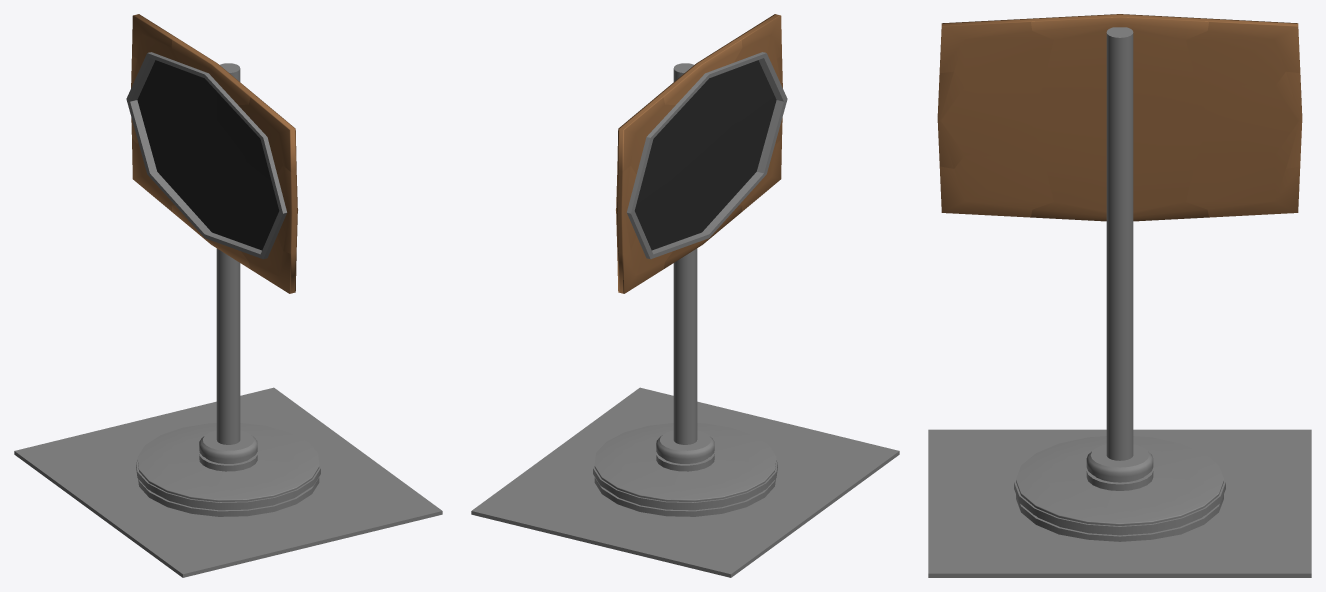
Rendered from sign post.fbx.
3 views of the same model, side by side, from view 1: azimuth 30°, elevation 25°; view 2: azimuth 150°, elevation 25°; view 3: azimuth 270°, elevation 25° (orthographic). The views are drawn at different scales.
Visible parts, largest first — view 1: pCube3; view 2: pCube3; view 3: pCube3.
Boxes of the visible parts, bbox=[...] form: pCube3: bbox=[14, 14, 442, 577]; pCube3: bbox=[471, 14, 899, 577]; pCube3: bbox=[928, 14, 1311, 577].
Bounding box in the file's own units: 4.24 × 6.62 × 4.77.
